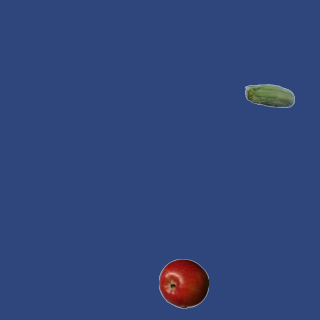Apple Braeburn: (158, 258, 208, 308)
Corn Husk: (244, 72, 294, 122)
